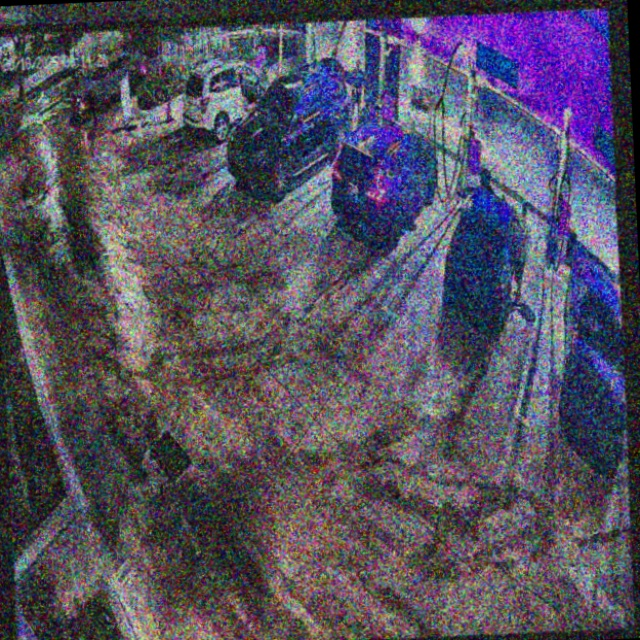Car: (224, 55, 354, 203), (331, 112, 441, 250), (437, 184, 531, 339)
